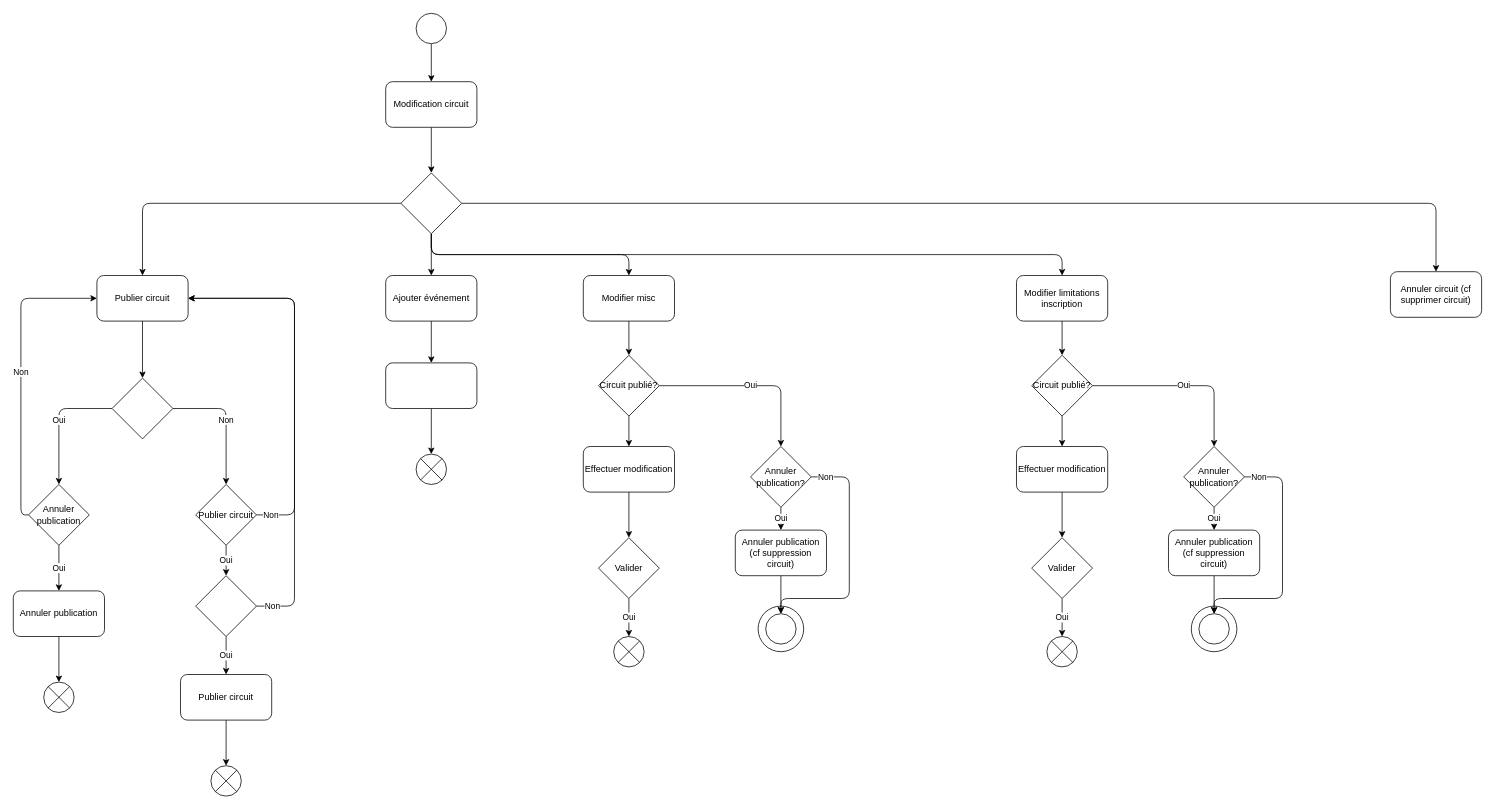
Image size: 1495x809. Some labels were removed from this diagram. Each missing label, with the centre of its shape:
"cf : Modification circuit ajouter evenement" goes at point 431,385.
"Circuit publier" goes at point 142,408.
"Etes-vous sûr?" goes at point 225,605.
"Menu" goes at point 431,203.
